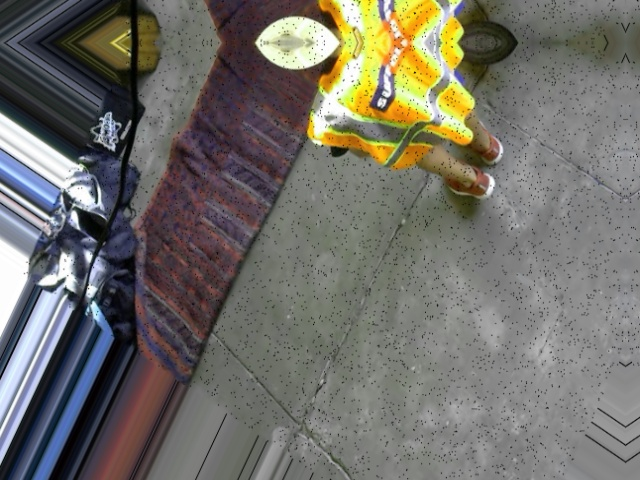eight: (281, 0, 338, 23)
